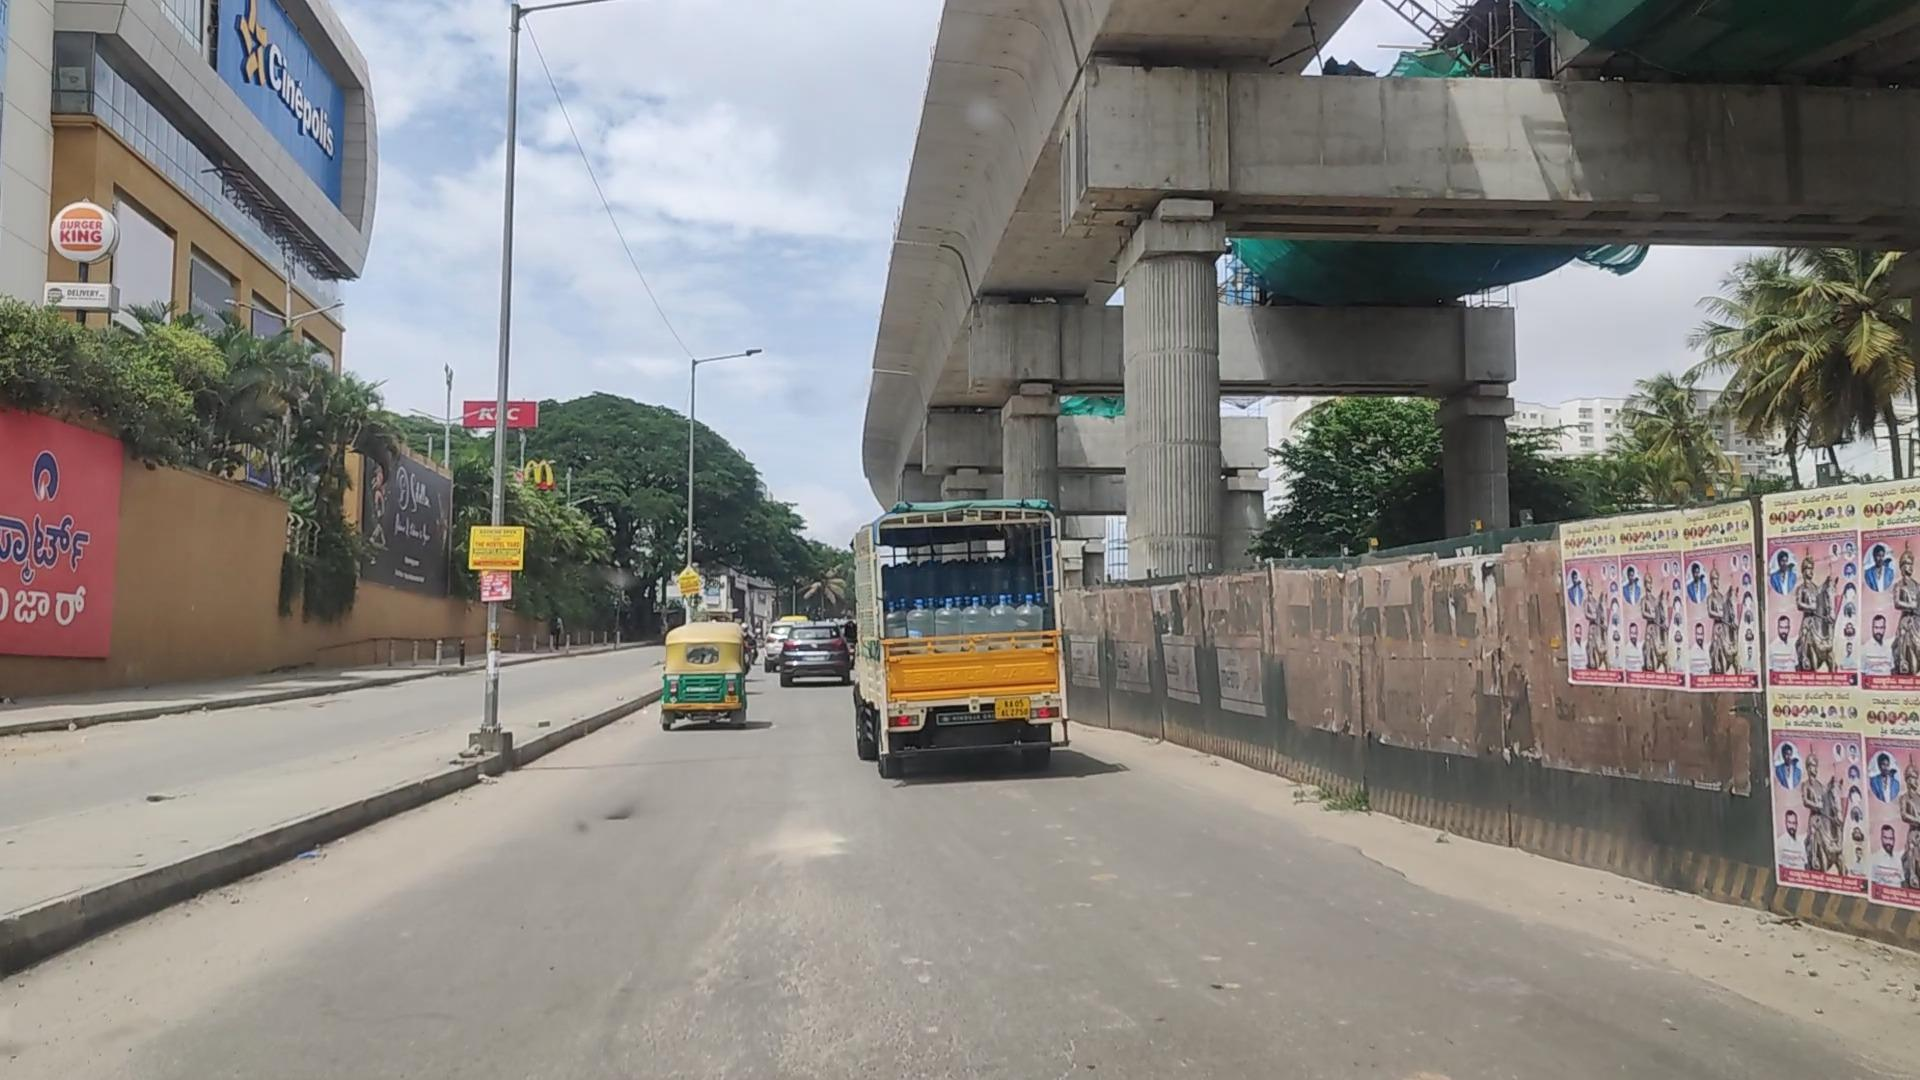HMV: (851, 493, 1084, 793)
LMV: (661, 624, 758, 735)
